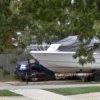Boat: (28, 27, 100, 79)
